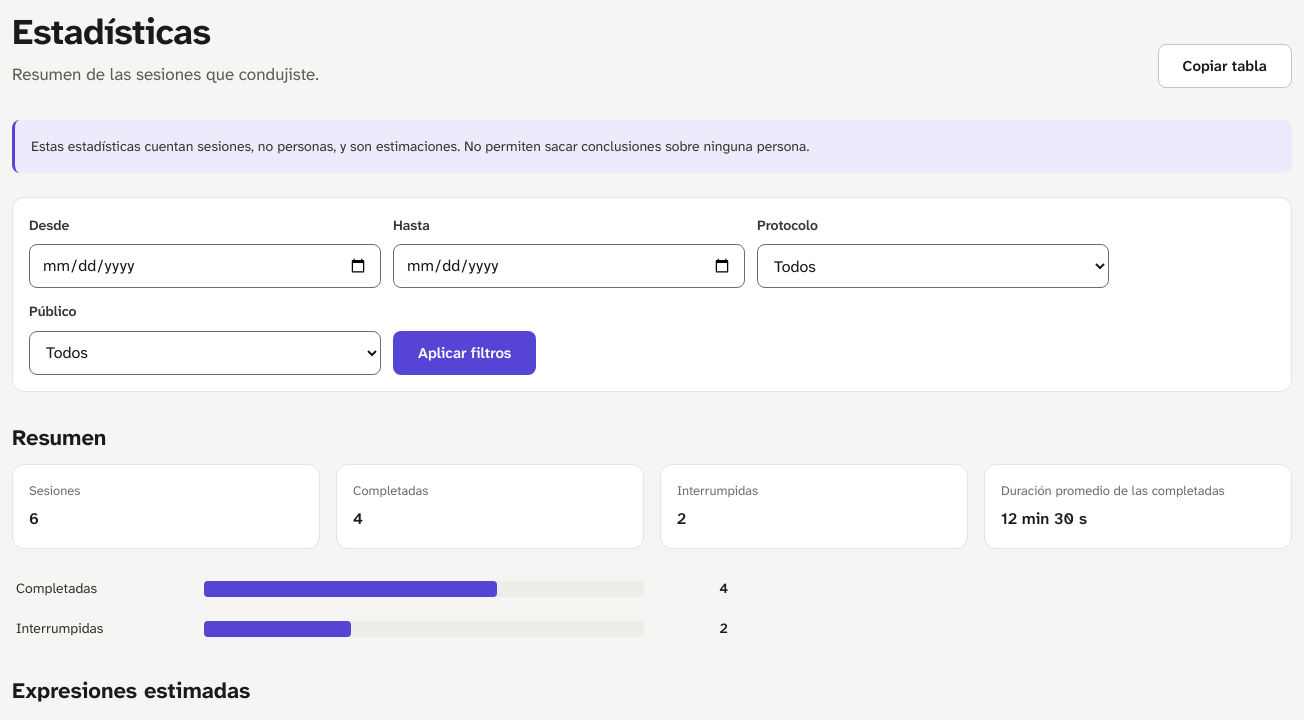
it: estadísticas › «Copiar tabla» copia los datos visibles separados por tabulaciones, sin crear archivos
Click the button "Copiar tabla": (1225, 66) [1158, 44, 1292, 88]
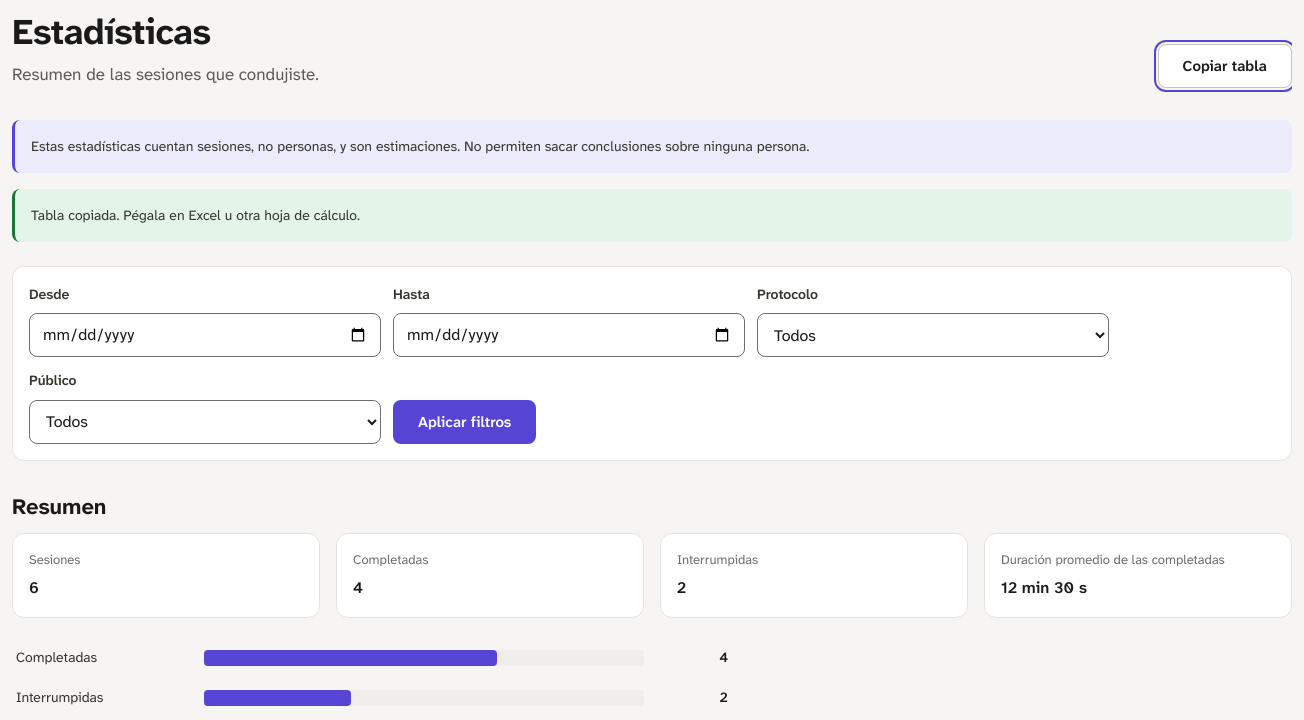
Result: the text "Tabla copiada. Pégala en Excel u otra hoja de cálculo." is shown at [12, 189, 1292, 242]
